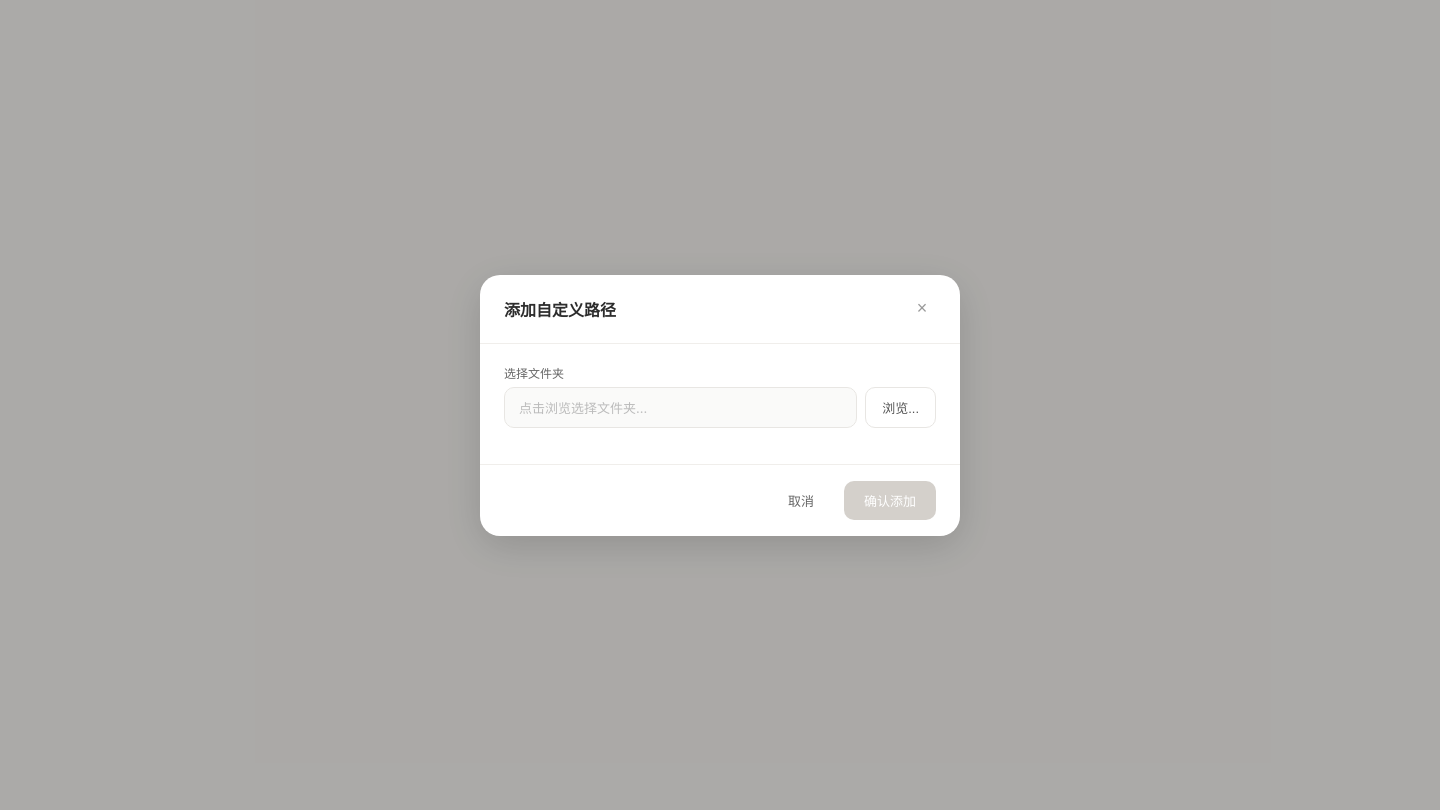
Test: AddPathModal V0.4 Behavior (Unit) › UT-FE-ADDPATH-02: 扫描无结果时应显示未找到 skills 且确认按钮禁用
Click the button "浏览...": (901,407) [865,386,936,428]
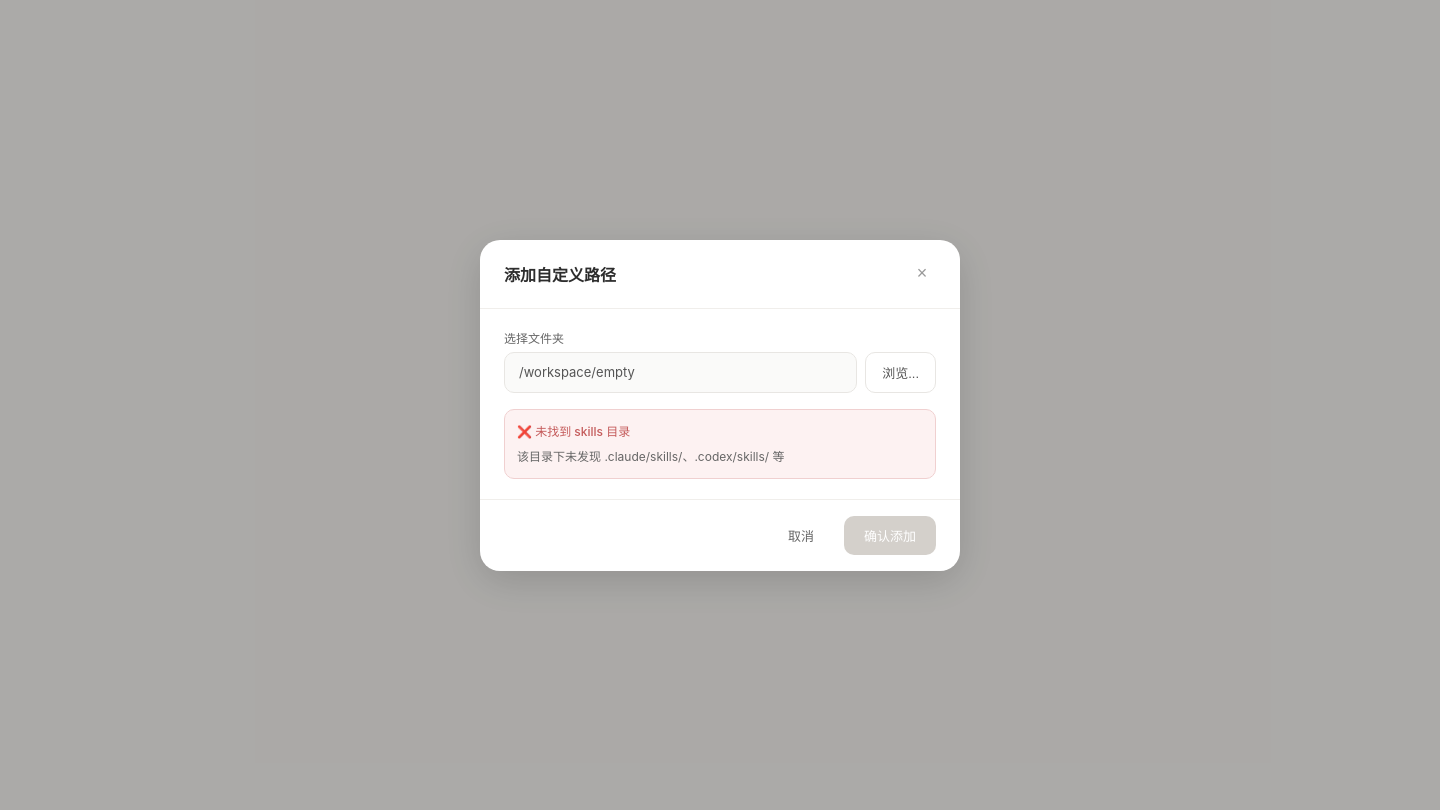
Expected: the button "确认添加" is disabled, [844,516,936,554]
Expected: the text "❌ 未找到 skills 目录" is shown, [517,424,630,438]
